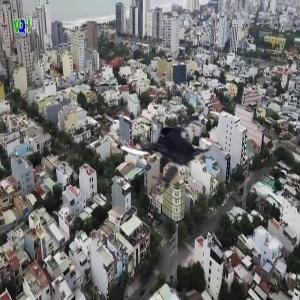drone: (105, 84, 223, 202)
